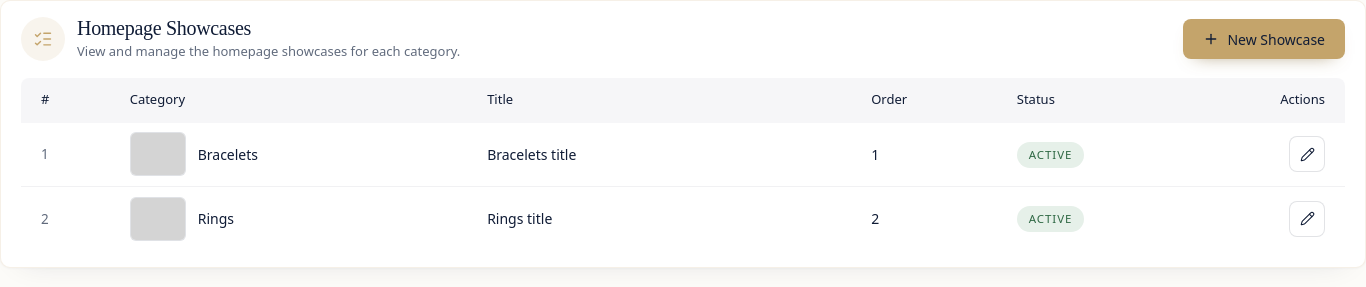
Scenario: Status pill — ACTIVE ⇄ INACTIVE toggle › toggles only the clicked showcase
This screenshot has width=1366, height=287.
Click the button with test id "showcase-status-toggle".
click(1051, 219)  # box [1017, 206, 1084, 232]
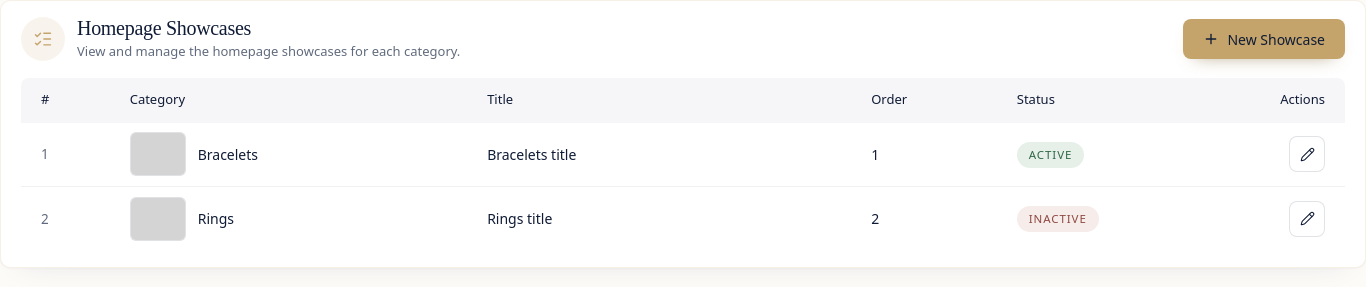
Expected: the button with test id "showcase-status-toggle" reads "Active", [1017, 142, 1084, 168]
Expected: the button with test id "showcase-status-toggle" reads "Inactive", [1017, 206, 1099, 232]
